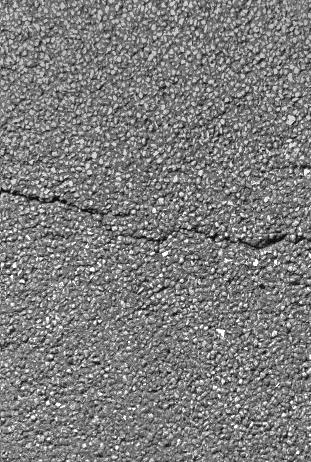crack: (4, 168, 310, 263)
